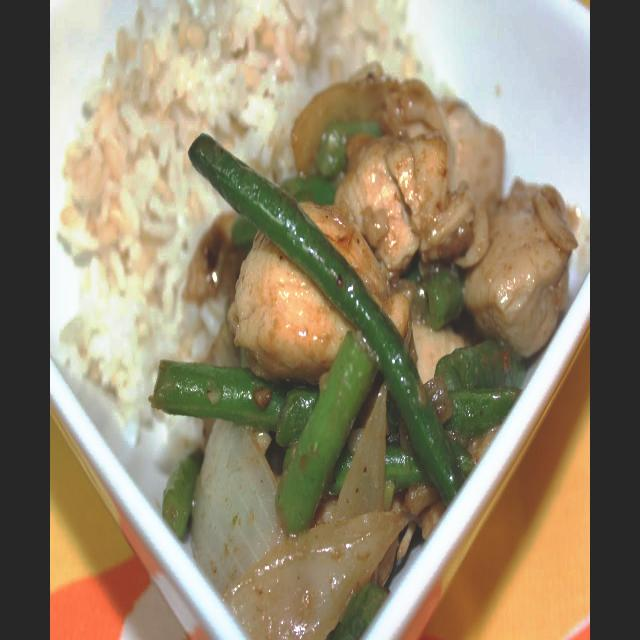String Bean Chicken Breast: (158, 63, 570, 635)
rice: (65, 1, 207, 438), (208, 4, 428, 56)
